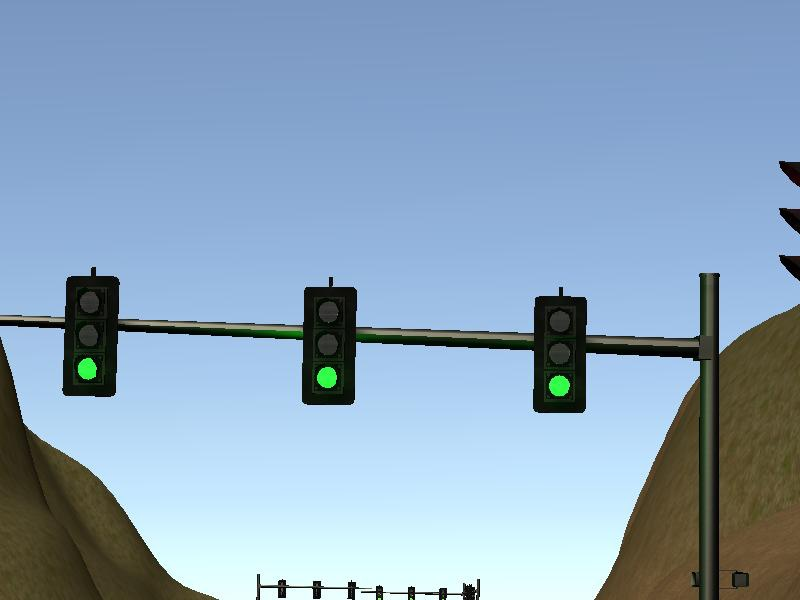Green: (61, 274, 120, 399), (299, 284, 358, 409), (529, 295, 588, 420), (437, 585, 449, 600), (374, 585, 384, 600), (406, 585, 416, 600)
